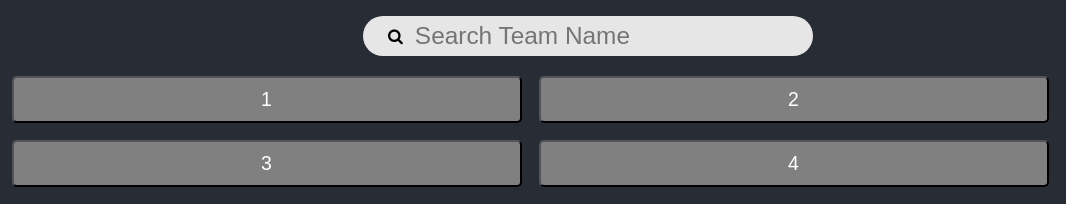
TEAM OVERVIEW: Team search
Expected: the button with test id "teamButton0" reads "1", left=12, top=76, right=522, bottom=123
Expected: the button with test id "teamButton1" reads "2", left=539, top=76, right=1049, bottom=123
In the field with placeholder "Search Team Name": (600, 36) left=413, top=21, right=788, bottom=51, type "1"
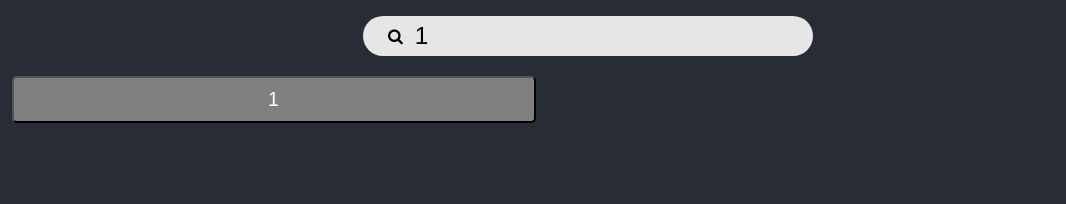
Expected: the button with test id "teamButton0" reads "1", left=12, top=76, right=536, bottom=123
Now the button with test id "teamButton1" is gone
